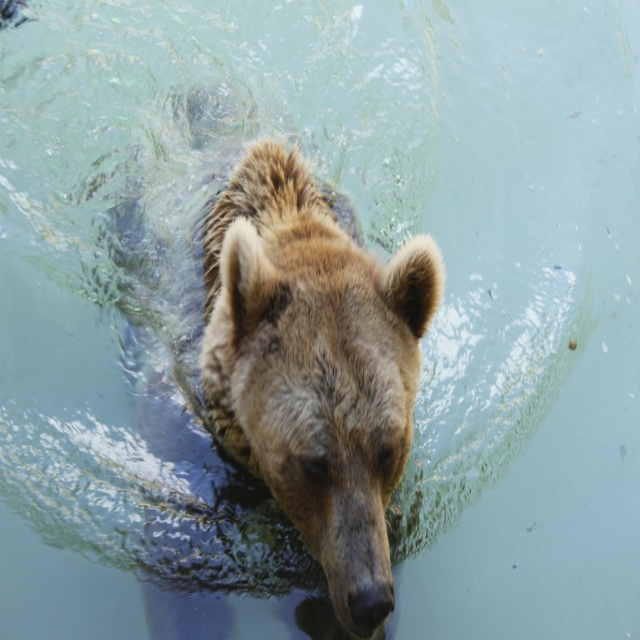Brown bear: (106, 73, 446, 639)
